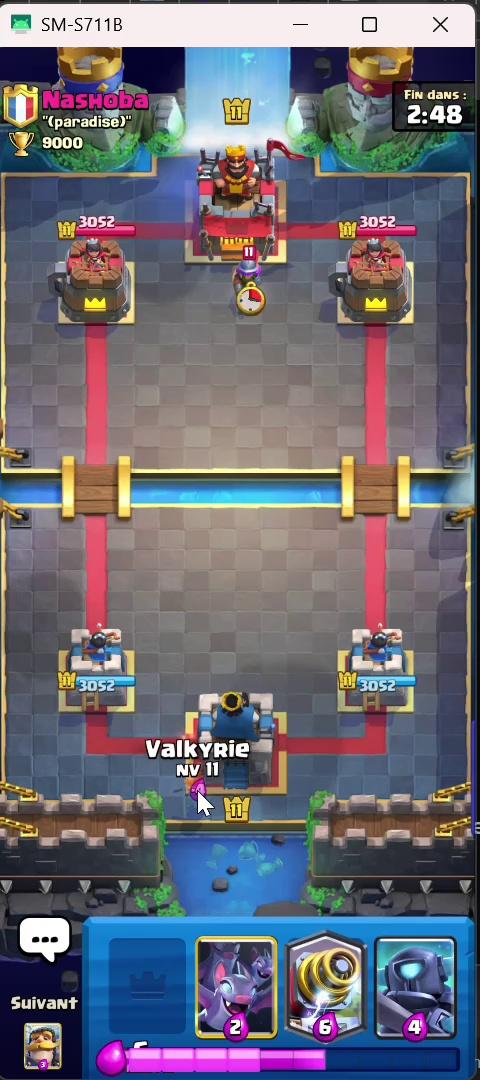mousquetaire: (225, 249, 272, 313)
valkyrie: (170, 762, 220, 823)
